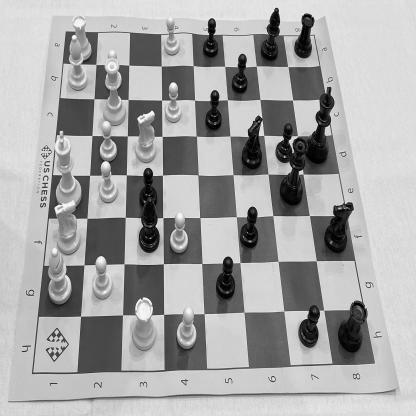black-bishop: (136, 197, 160, 254), (260, 5, 282, 64)
black-king: (306, 84, 336, 166)
black-knight: (324, 199, 355, 255), (240, 113, 266, 172)
black-pawn: (298, 304, 320, 350), (238, 204, 260, 250), (272, 121, 294, 166), (216, 254, 236, 300), (138, 166, 158, 207), (231, 52, 249, 94), (204, 89, 222, 131), (201, 17, 219, 58)
black-queen: (278, 135, 308, 208)
black-rook: (338, 298, 368, 356), (293, 11, 315, 60)
white-bishop: (46, 246, 73, 306), (64, 35, 90, 92)
white-king: (52, 127, 84, 208)
white-knight: (52, 200, 82, 257), (134, 108, 158, 164)
white-pawn: (174, 304, 198, 350), (92, 256, 114, 301), (96, 122, 120, 162), (168, 211, 189, 255), (98, 162, 119, 204), (162, 14, 181, 58), (164, 82, 183, 124), (105, 48, 123, 88)
white-queen: (102, 56, 127, 126)
white-rook: (128, 294, 156, 353), (71, 13, 93, 61)
